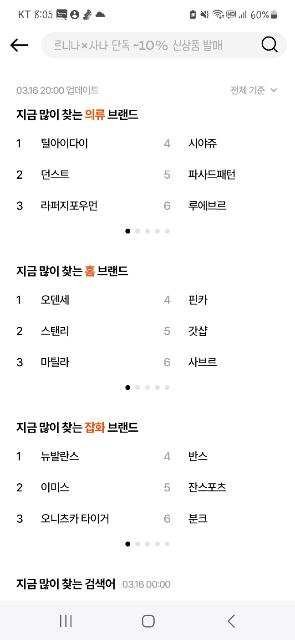EditText: (40, 32, 252, 56)
Icon: (10, 38, 30, 52), (262, 37, 278, 53), (272, 88, 278, 92)
PageIndicator: (125, 540, 171, 548), (126, 384, 169, 391), (125, 228, 170, 234)
Text: (55, 39, 223, 51), (17, 578, 170, 590), (16, 422, 138, 434), (18, 108, 138, 120), (17, 266, 129, 276), (16, 514, 110, 524), (18, 201, 98, 211), (165, 200, 226, 212), (164, 170, 236, 180), (18, 138, 88, 148), (17, 86, 98, 94), (15, 452, 78, 462), (164, 482, 226, 492), (17, 327, 69, 338), (17, 357, 69, 368), (17, 170, 70, 180), (166, 357, 218, 367), (17, 483, 69, 493), (165, 450, 208, 462), (166, 139, 216, 149), (18, 295, 68, 305), (164, 326, 208, 336), (165, 295, 208, 305), (165, 514, 208, 524), (231, 86, 265, 94)
Toolbar: (0, 27, 295, 60)
UpperTaskBar: (0, 0, 295, 28)
